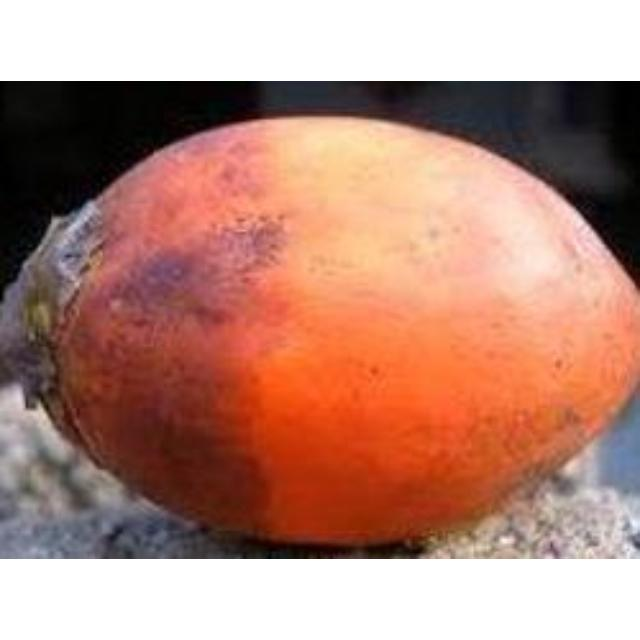good: (0, 114, 637, 557)
